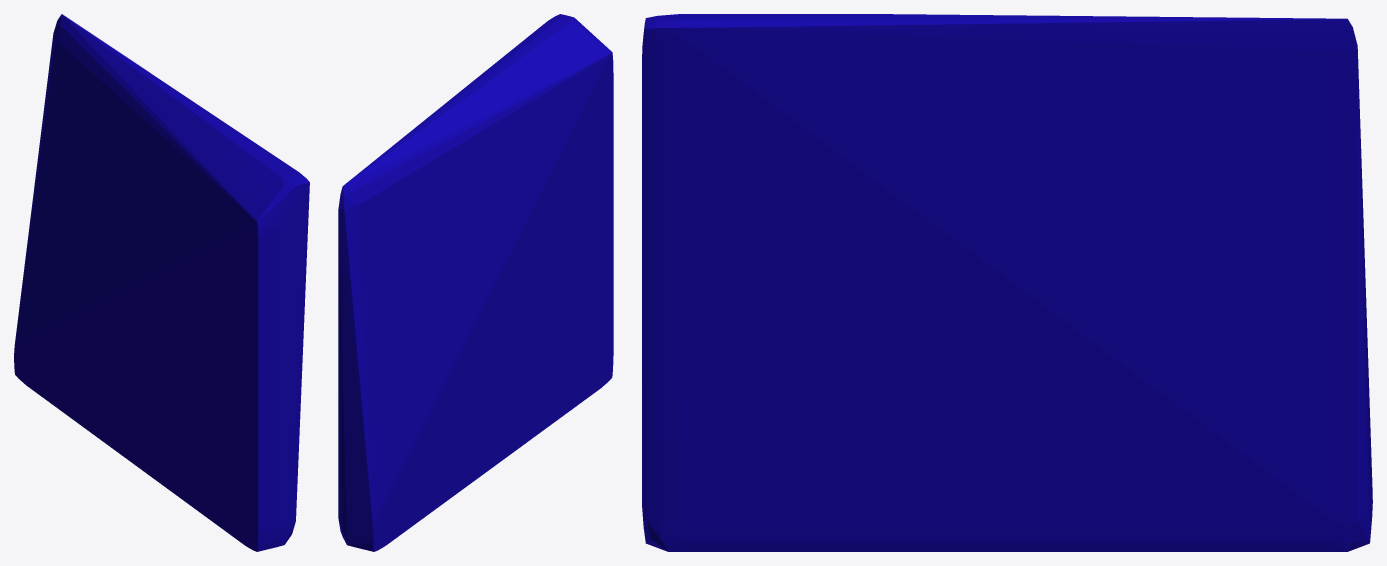
Rendered from right_hip_yaw_link_part_5.obj.
3 views of the same model, side by side, from view 1: azimuth 30°, elevation 25°; view 2: azimuth 150°, elevation 25°; view 3: azimuth 270°, elevation 25° (orthographic). The views are drawn at different scales.
Size of the model in its own units: 0.00521 by 0.0333 by 0.0408.
